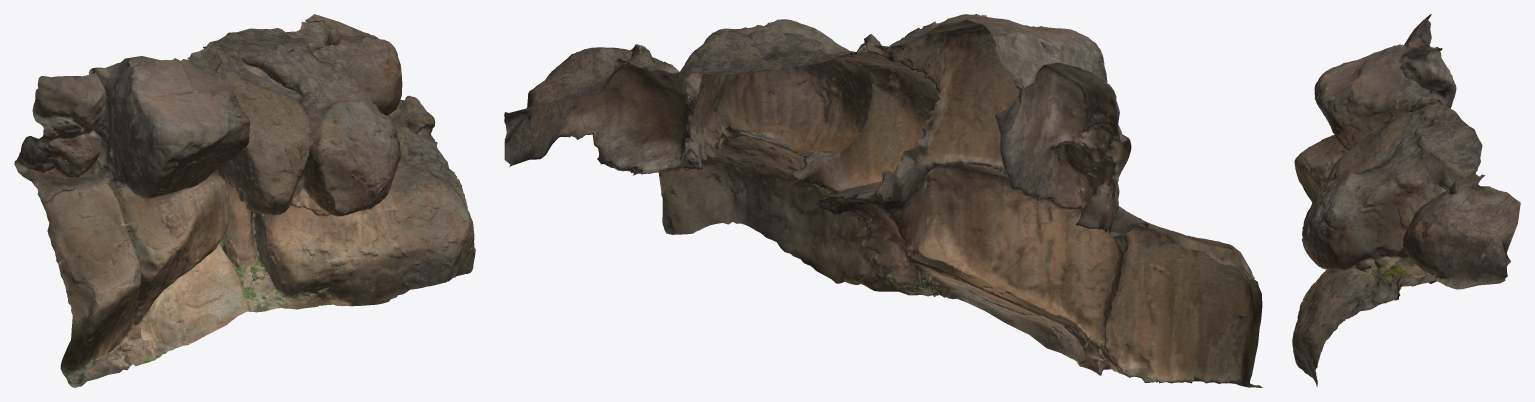
The model's file is namaqualand_cliff_01.gltf.
3 renders of one model, left to right at view 1: azimuth 30°, elevation 25°; view 2: azimuth 150°, elevation 25°; view 3: azimuth 270°, elevation 25°, orthographic. The views are drawn at different scales.
Visible parts, largest first — view 1: drone_rock_01; view 2: drone_rock_01; view 3: drone_rock_01.
Part boxes in pixels (box(x1,y1,x2,y2)): drone_rock_01: box(14, 14, 475, 387); drone_rock_01: box(504, 14, 1263, 387); drone_rock_01: box(1292, 14, 1520, 387).
Bounding box in the file's own units: 8.28 × 4.96 × 4.39.
Materials: 1 (1 with a texture image).
